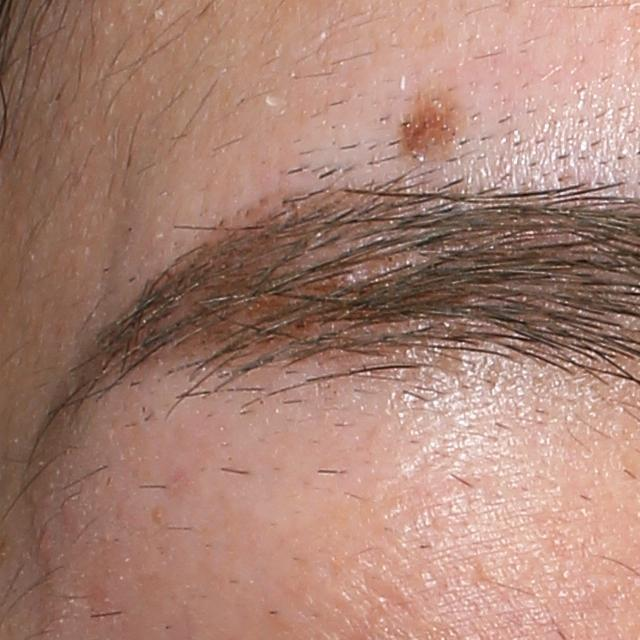nevus: (392, 93, 466, 159)
